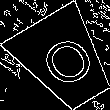O_SE: (30, 28, 99, 93)
